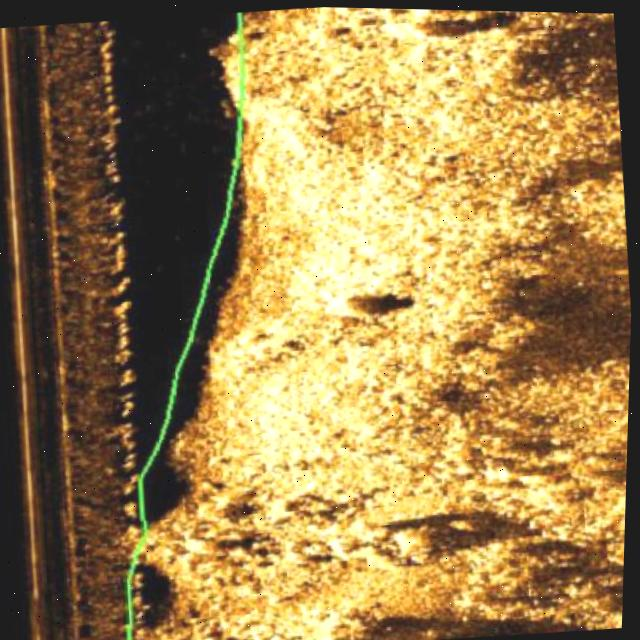bedrock group: (88, 2, 640, 640)
